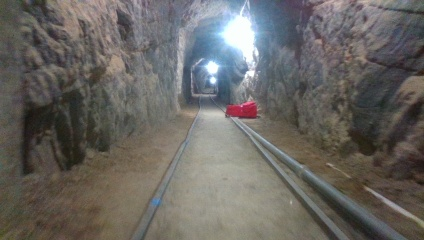backpack: (223, 100, 258, 118)
